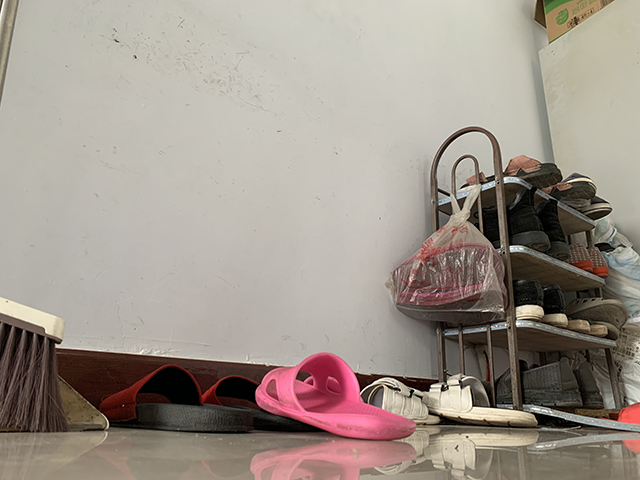slippers: (254, 351, 417, 442), (105, 366, 258, 433), (425, 373, 539, 430), (364, 378, 438, 424), (207, 371, 255, 410)
